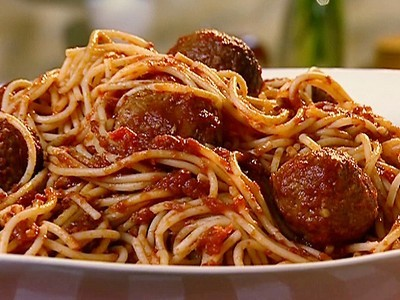meatballs: (271, 157, 368, 228), (120, 81, 207, 143)
plain spaghetti: (64, 176, 240, 259)
